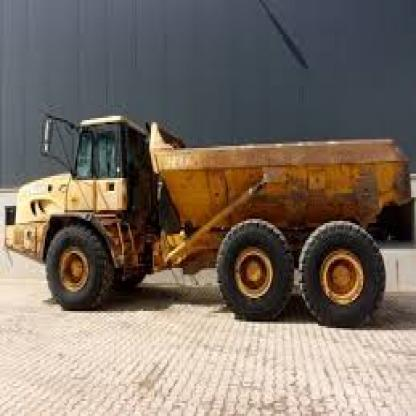dump_truck: (2, 96, 408, 336)
